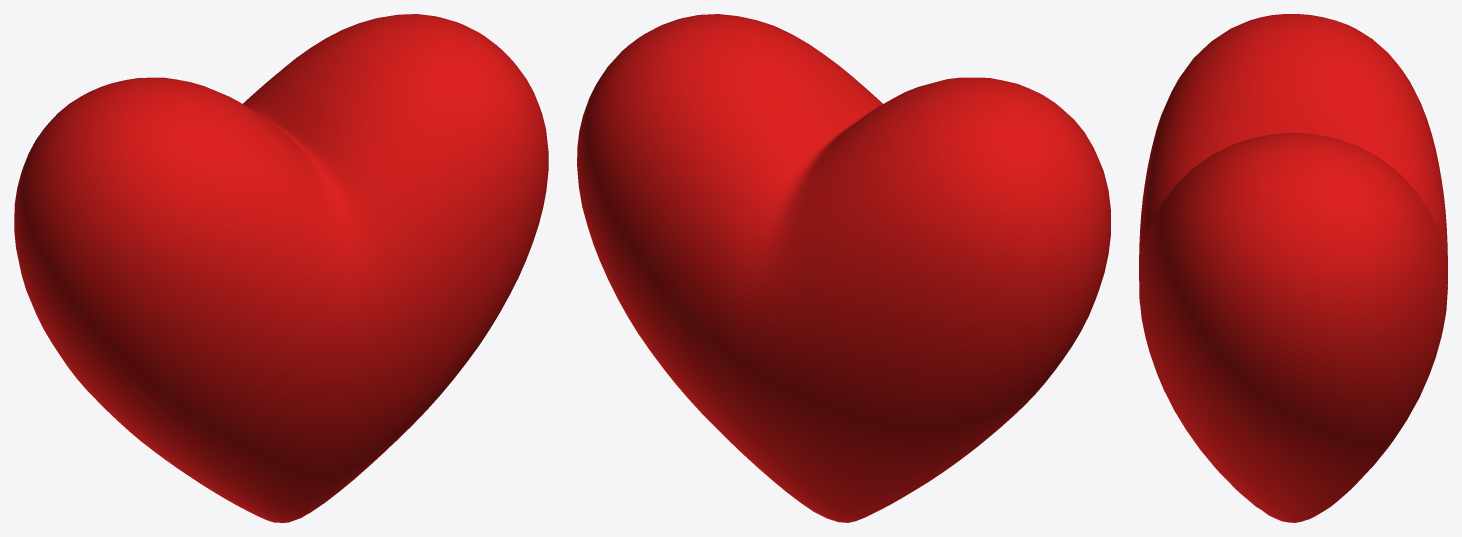
3 views of the same model, side by side, from view 1: azimuth 30°, elevation 25°; view 2: azimuth 150°, elevation 25°; view 3: azimuth 270°, elevation 25° (orthographic). The views are drawn at different scales.
Parts seen in each view (by area): view 1: Retopo_model.003; view 2: Retopo_model.003; view 3: Retopo_model.003.
Boxes of the visible parts, <box> form: Retopo_model.003: <box>14,14,548,522</box>; Retopo_model.003: <box>577,14,1110,522</box>; Retopo_model.003: <box>1139,14,1447,522</box>.
Size of the model in its own units: 1.72 by 1.53 by 0.9869.
